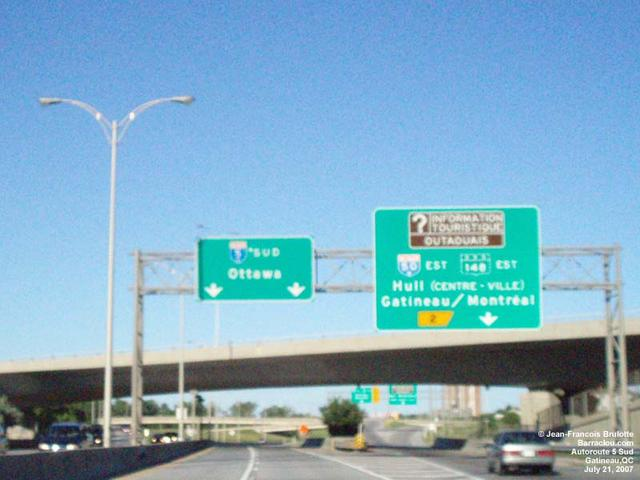autre: (375, 207, 543, 330), (198, 236, 314, 301), (390, 386, 419, 407), (352, 387, 373, 403)
